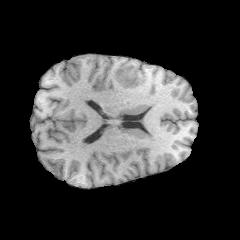glioma: (113, 64, 147, 89)
